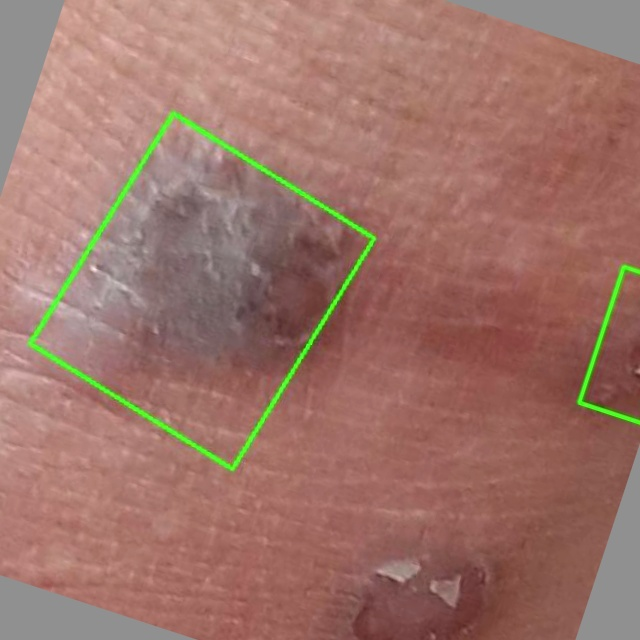Contact Dermatitis: (30, 113, 375, 469)
